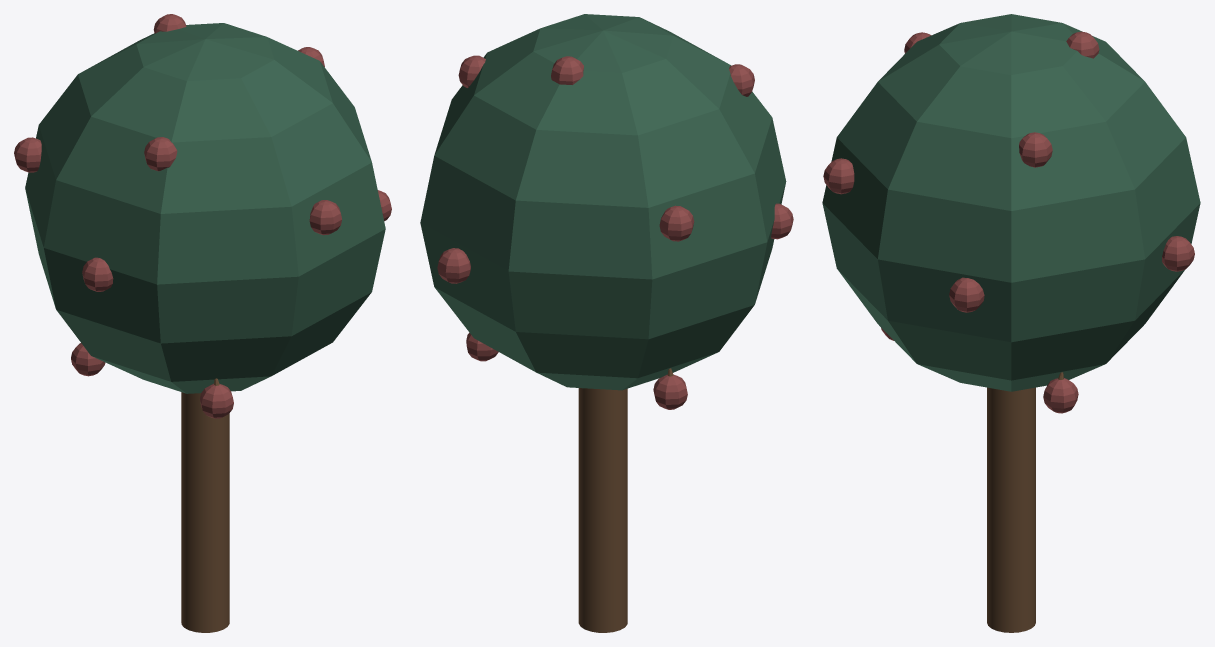
File: FruitTree.glb
3 renders of one model, left to right at view 1: azimuth 30°, elevation 25°; view 2: azimuth 150°, elevation 25°; view 3: azimuth 270°, elevation 25°, orthographic.
Parts seen in each view (by area): view 1: FruitTreeBody, PickupFruit_02, PickupFruit_03; view 2: FruitTreeBody, PickupFruit_03, PickupFruit_01; view 3: FruitTreeBody, PickupFruit_01.
Boxes of the visible parts, bbox=[...] form: FruitTreeBody: bbox=[14, 14, 391, 632]; PickupFruit_02: bbox=[199, 378, 233, 418]; PickupFruit_03: bbox=[71, 343, 105, 376]; FruitTreeBody: bbox=[420, 14, 793, 632]; PickupFruit_03: bbox=[653, 368, 687, 409]; PickupFruit_01: bbox=[466, 332, 498, 361]; FruitTreeBody: bbox=[822, 14, 1200, 632]; PickupFruit_01: bbox=[1043, 372, 1078, 413].
Size of the model in its own units: 0.211 by 0.3625 by 0.2102.
